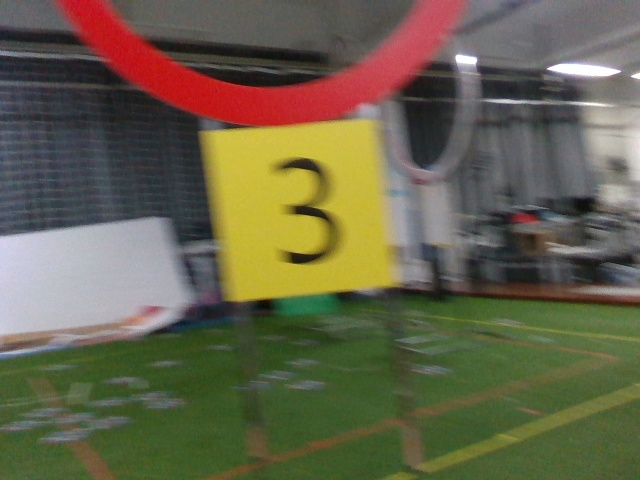target: (221, 130, 379, 288)
